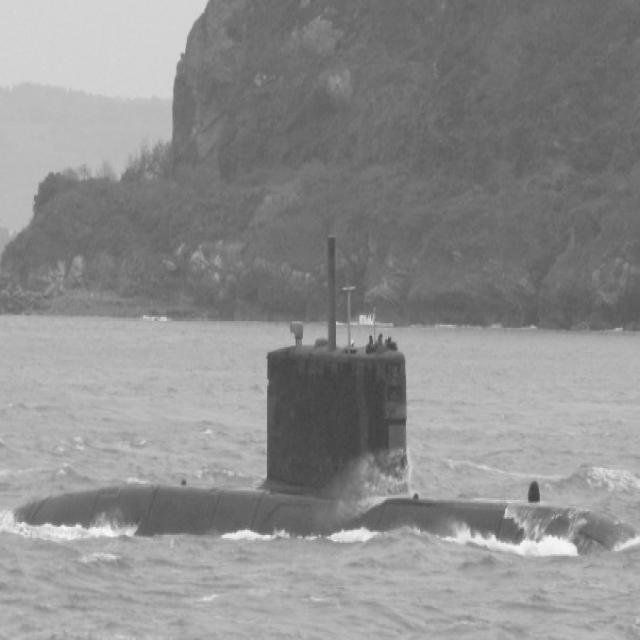submarine: (1, 358, 611, 552)
